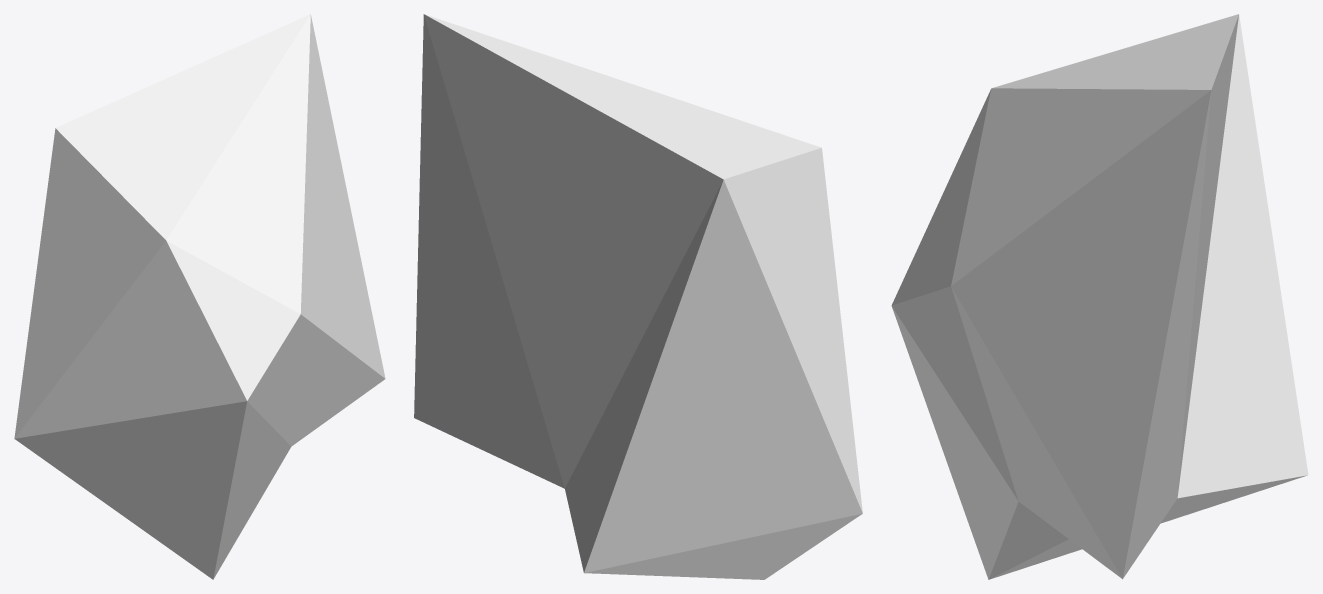
File: PaperBall_c.fbx
The picture shows the model from 3 angles, left to right: view 1: azimuth 30°, elevation 25°; view 2: azimuth 150°, elevation 25°; view 3: azimuth 270°, elevation 25°; orthographic projection. The views are drawn at different scales.
Parts seen in each view (by area): view 1: Icosphere.007; view 2: Icosphere.007; view 3: Icosphere.007.
Boxes of the visible parts, x1,y1,x2,y2 form: Icosphere.007: [14, 14, 385, 579]; Icosphere.007: [414, 14, 862, 579]; Icosphere.007: [891, 14, 1308, 579].
Size of the model in its own units: 12.43 by 15.12 by 9.41.
